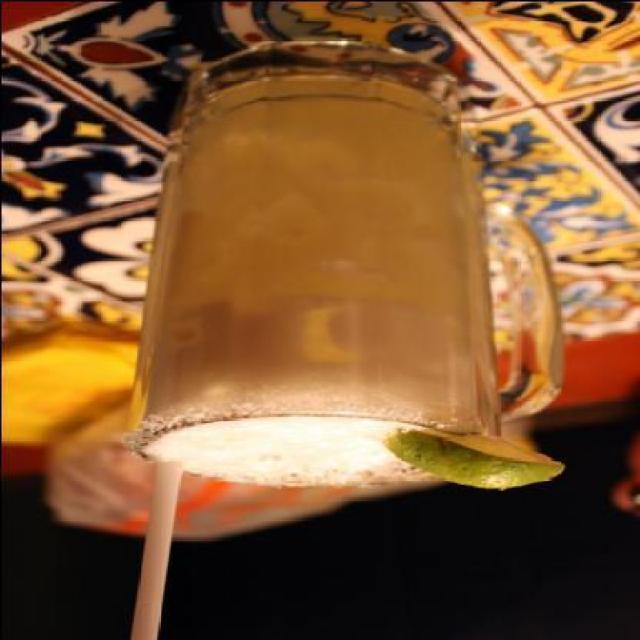Juice: (137, 32, 532, 506)
